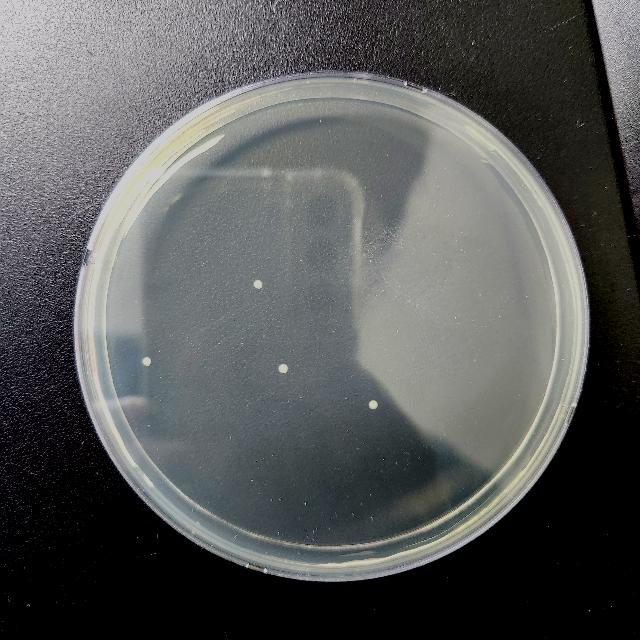colony: (368, 400, 378, 410), (142, 356, 152, 366), (278, 363, 288, 373), (253, 280, 263, 288)
